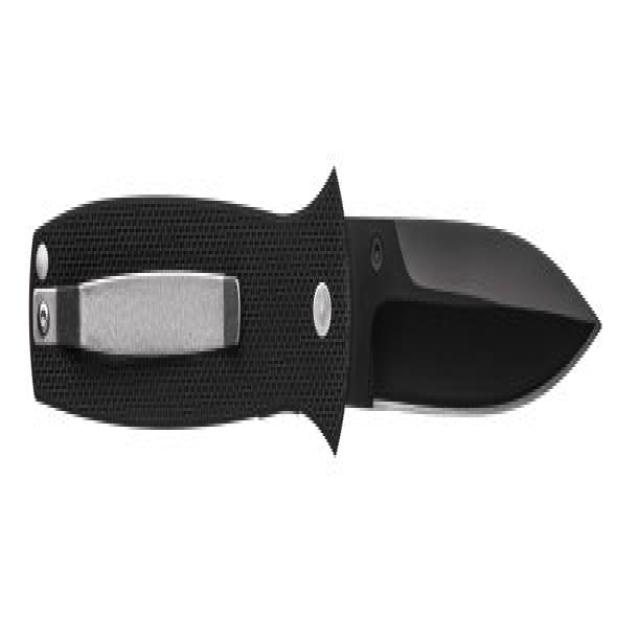knife: (28, 139, 607, 476)
